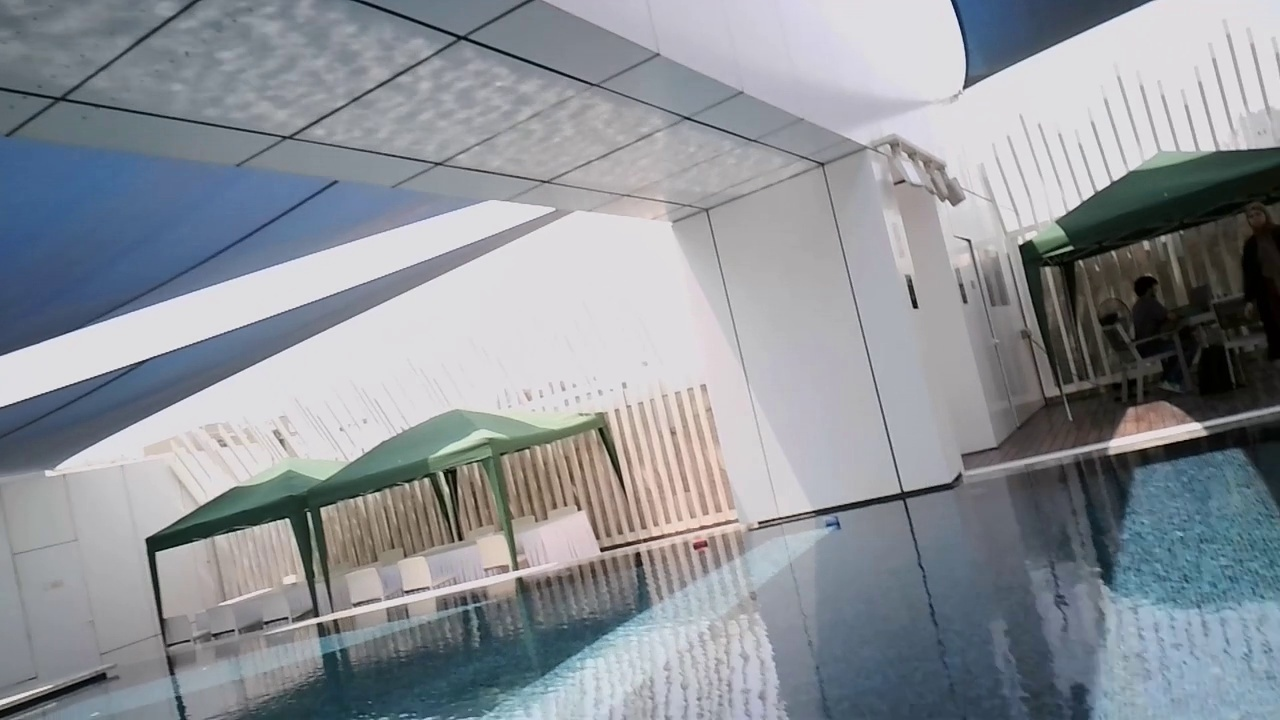debris: (818, 515, 845, 533), (691, 537, 709, 552)
